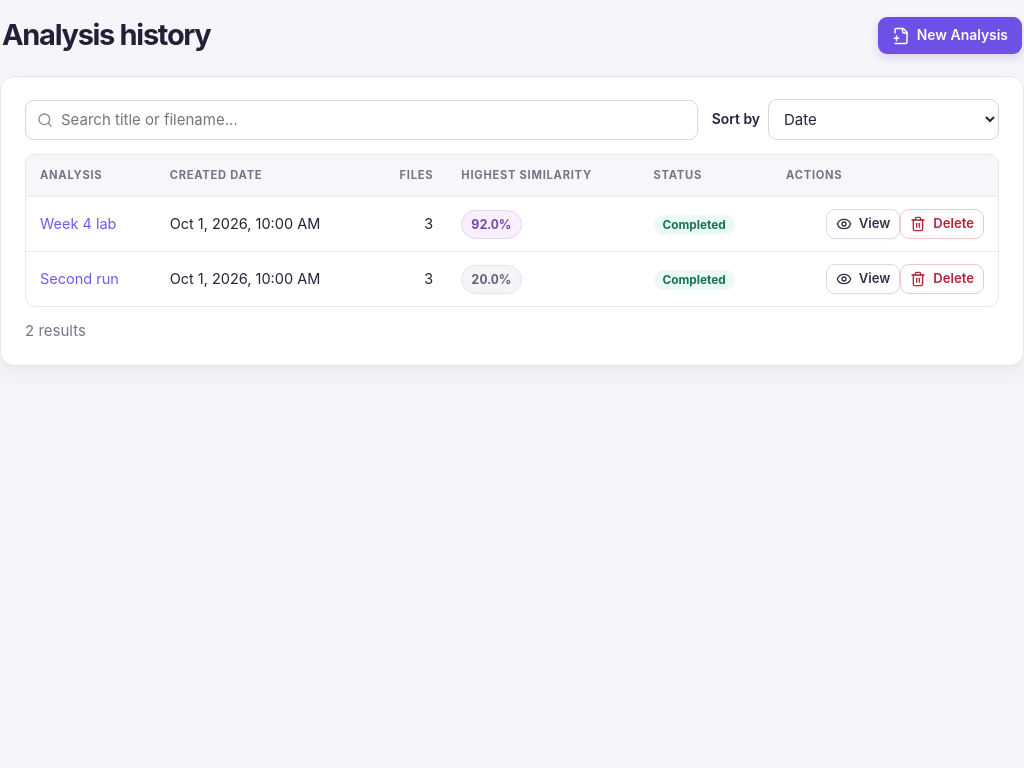
Test: History page › deletes an analysis after confirmation and reloads the list
This screenshot has width=1024, height=768.
Check: the link "Week 4 lab" is shown, box [40,215,116,232]
Click the button with aria-label "Delete Week 4 lab" at (942, 224), box [900,209,984,239]
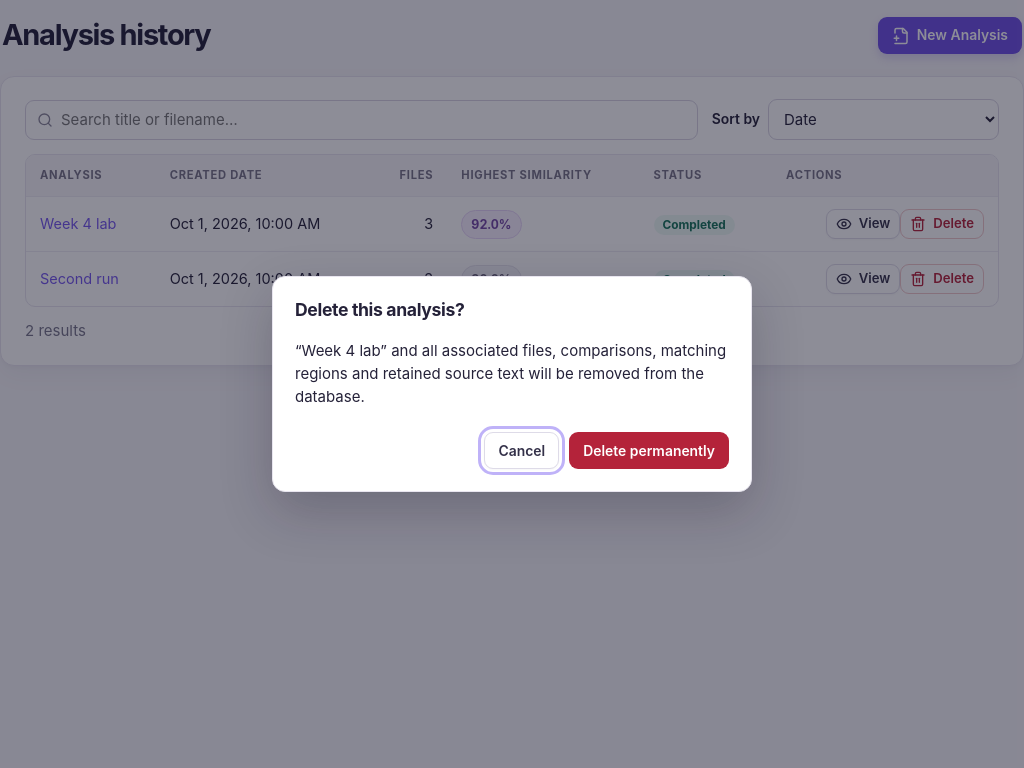
Check: the text "will be removed from the database" is shown, box [295,341,726,406]
Click the button "Delete permanently" at (649, 451), box [569,432,729,469]
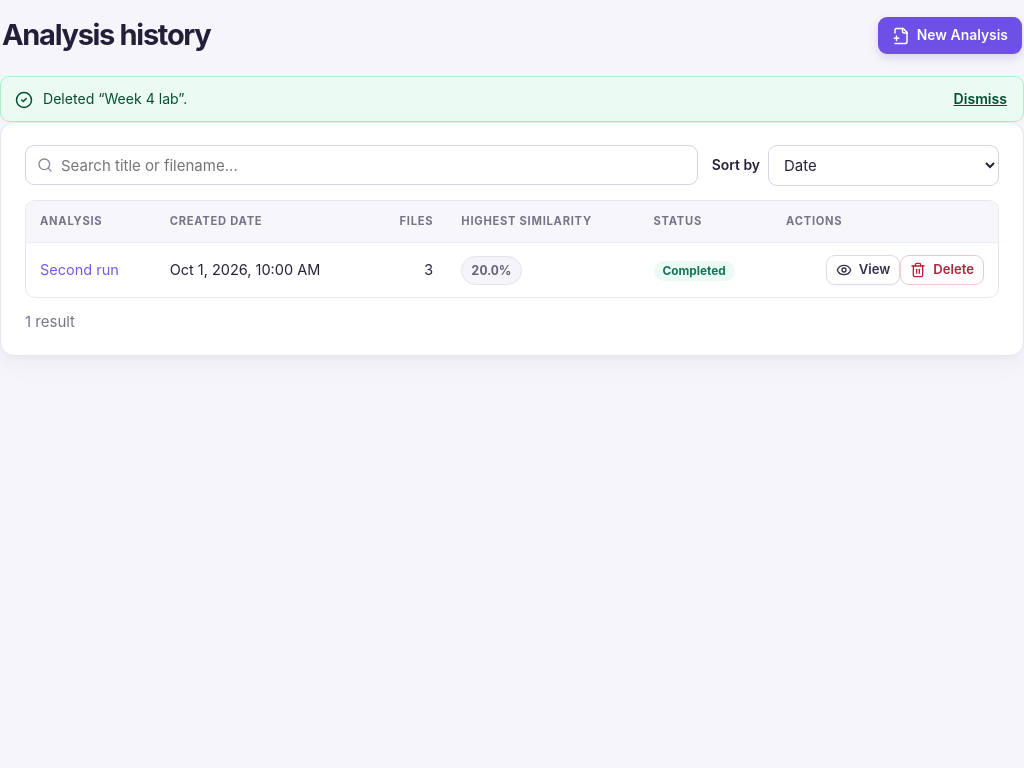
Check: the text "Deleted “Week 4 lab”. Dismiss" is shown, box [0,76,1023,122]
